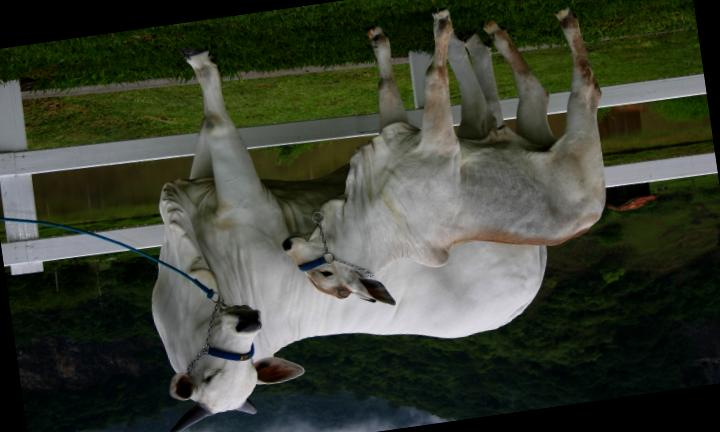Brahman: (152, 48, 546, 432), (283, 9, 605, 305), (448, 38, 502, 137)
